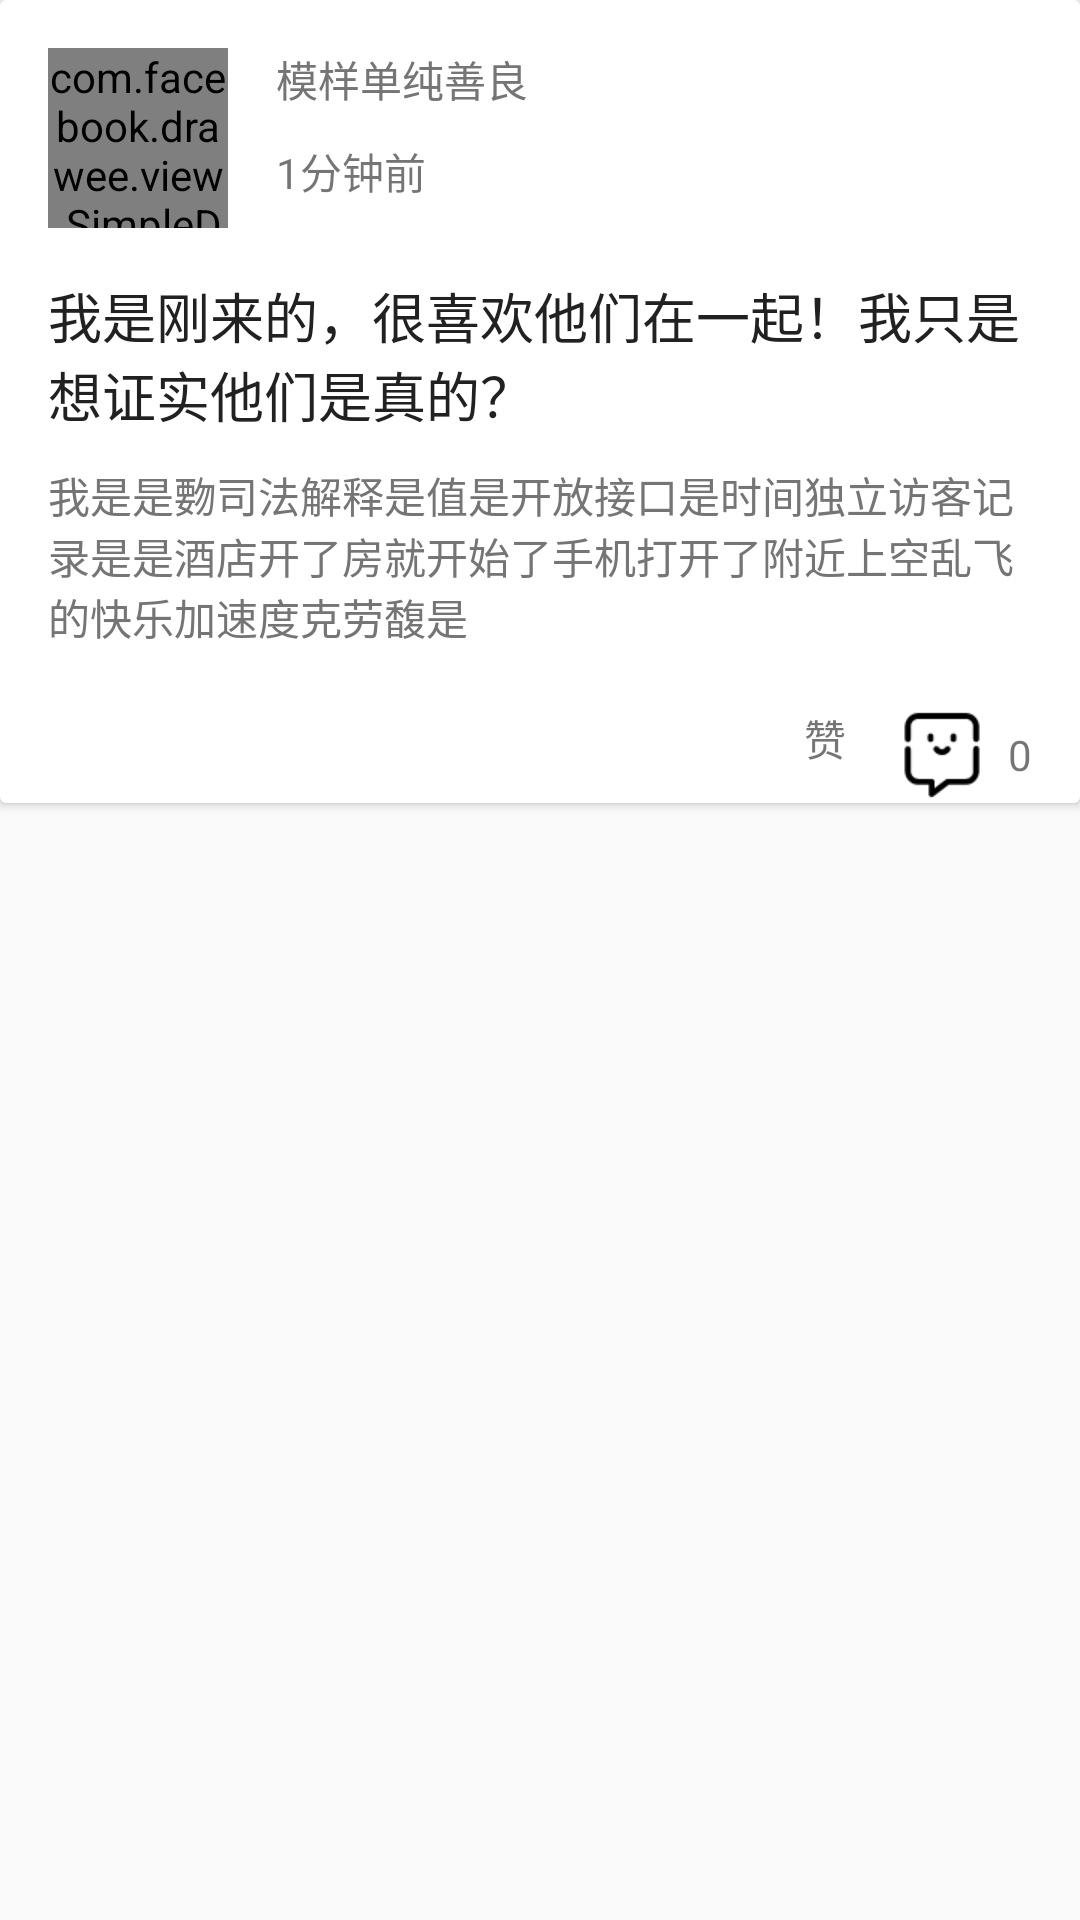

Locate icon controls on the screen. Image size 1080 × 1920, boxes as [x1=x1, y1=y1, x2=x2, y2=y2].
comment: [x1=904, y1=712, x2=980, y2=798]
